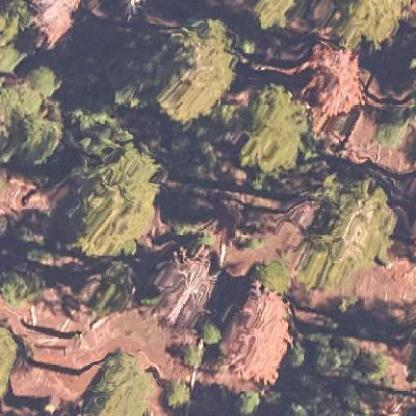tree-top: (55, 143, 180, 255), (292, 178, 400, 288), (142, 16, 250, 124), (230, 79, 312, 175), (74, 343, 166, 415), (0, 71, 72, 162), (320, 0, 407, 57), (244, 250, 296, 300)
